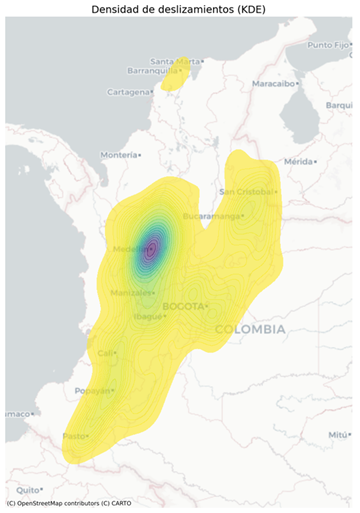

The dashboard page shown, as its layout file describes it:
{"tool":"powerbi","page":{"name":"Página 1","canvas":[1280,720],"ordinal":1},"visuals":[{"type":"map","fields":{"Y":["raw_coords.Latitud"],"X":["raw_coords.Longitud"]},"box":[9.7,0,482.4,607.9],"z":0}]}

Visuals, with their boxes on the page's 1280x720 design canvas (x1, y1, x2, y2). These are canvas units, not pixel positions in the 360x513 screenshot, which may show the page scaled, cropped or inside an application window:
map - raw_coords.Latitud x raw_coords.Longitud: <region>10, 0, 492, 608</region>
